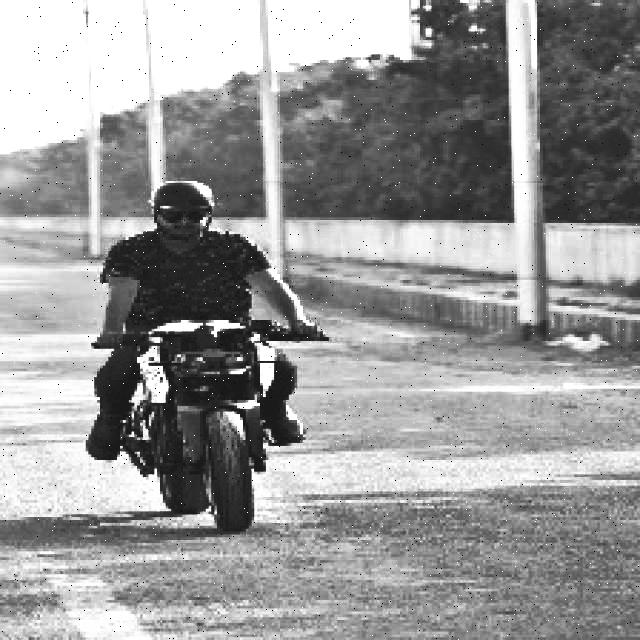Bike: (127, 318, 281, 531)
